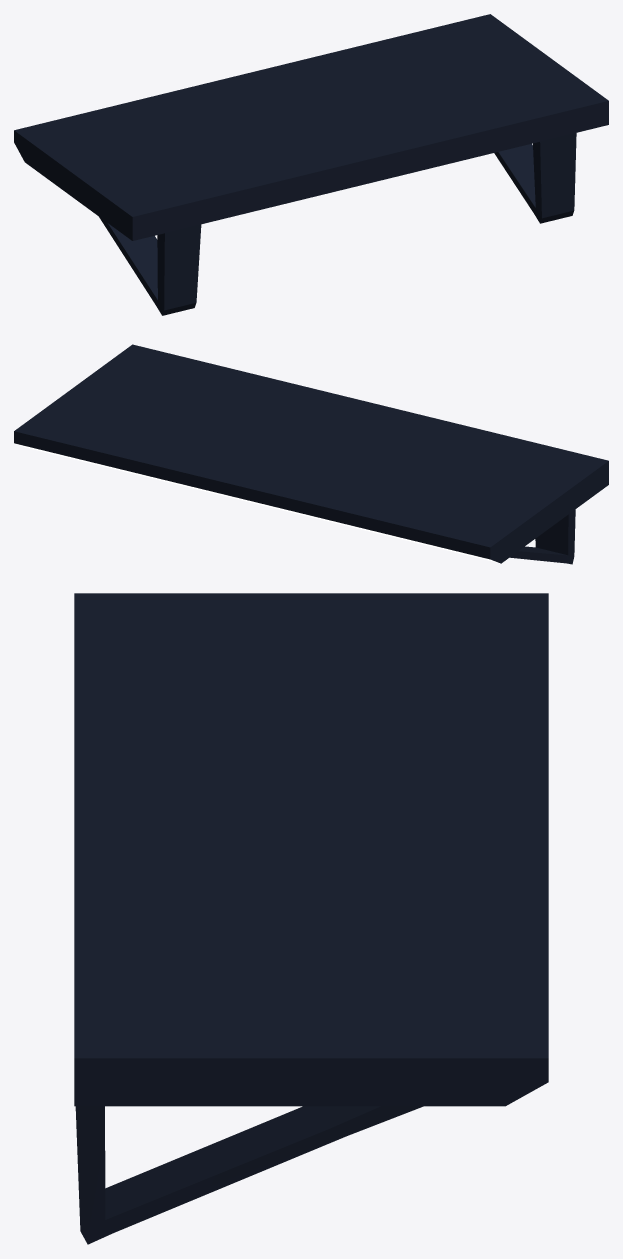
File: prateleiramenor.fbx
The picture shows the model from 3 angles, top to bottom: view 1: azimuth 30°, elevation 25°; view 2: azimuth 150°, elevation 25°; view 3: azimuth 270°, elevation 25°; orthographic projection. The views are drawn at different scales.
Parts seen in each view (by area): view 1: PrateleiraB.003; view 2: PrateleiraB.003; view 3: PrateleiraB.003.
Boxes of the visible parts, <box> form: PrateleiraB.003: <box>14,14,608,315</box>; PrateleiraB.003: <box>14,344,608,564</box>; PrateleiraB.003: <box>74,593,548,1244</box>.
Bounding box in the file's own units: 66.21 × 14.53 × 28.53.
